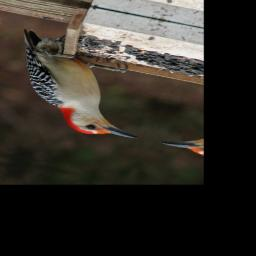Woodpecker: (0, 26, 178, 144)
